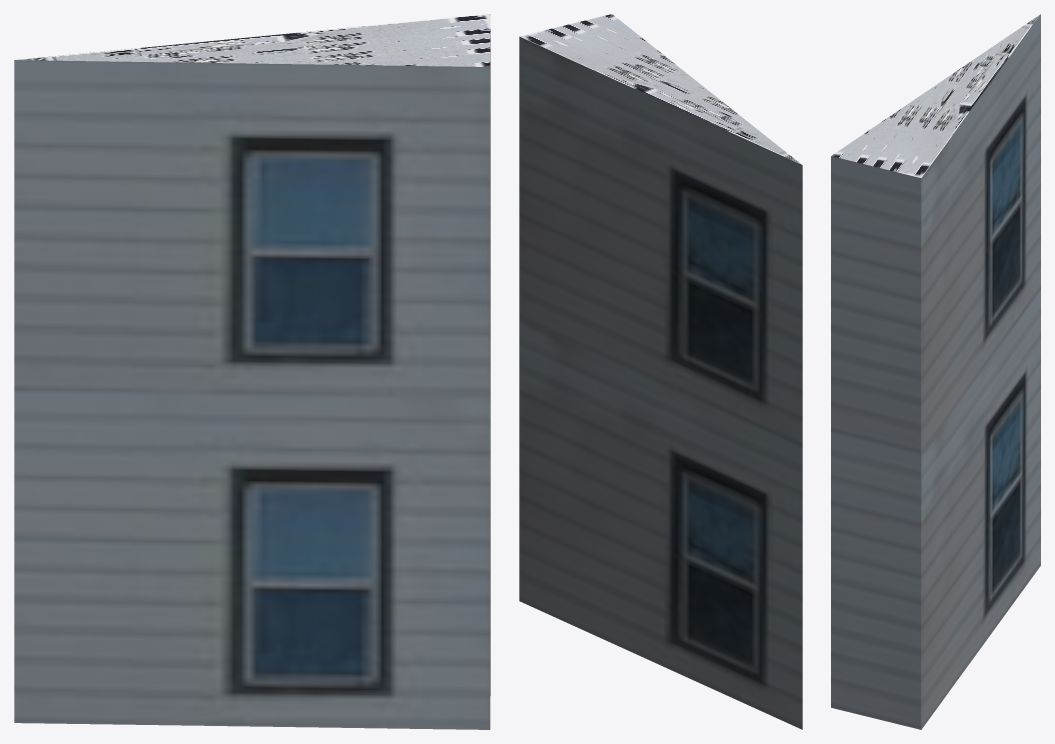
File: ResTex__4477.fbx
3 renders of one model, left to right at view 1: azimuth 30°, elevation 25°; view 2: azimuth 150°, elevation 25°; view 3: azimuth 270°, elevation 25°, orthographic. The views are drawn at different scales.
Visible parts, largest first — view 1: CityEngineMaterial_18_m, CityEngineMaterial_8_m; view 2: CityEngineMaterial_18_m, CityEngineMaterial_8_m; view 3: CityEngineMaterial_18_m, CityEngineMaterial_8_m.
Boxes of the visible parts, left/top/right/bottom form: CityEngineMaterial_18_m: left=14, top=33, right=490, bottom=729; CityEngineMaterial_8_m: left=17, top=14, right=490, bottom=66; CityEngineMaterial_18_m: left=519, top=36, right=802, bottom=729; CityEngineMaterial_8_m: left=519, top=14, right=801, bottom=164; CityEngineMaterial_18_m: left=831, top=14, right=1040, bottom=729; CityEngineMaterial_8_m: left=831, top=14, right=1040, bottom=177.
Bounding box in the file's own units: 3.83 × 6 × 2.07.
Materials: 2 (2 with a texture image).
